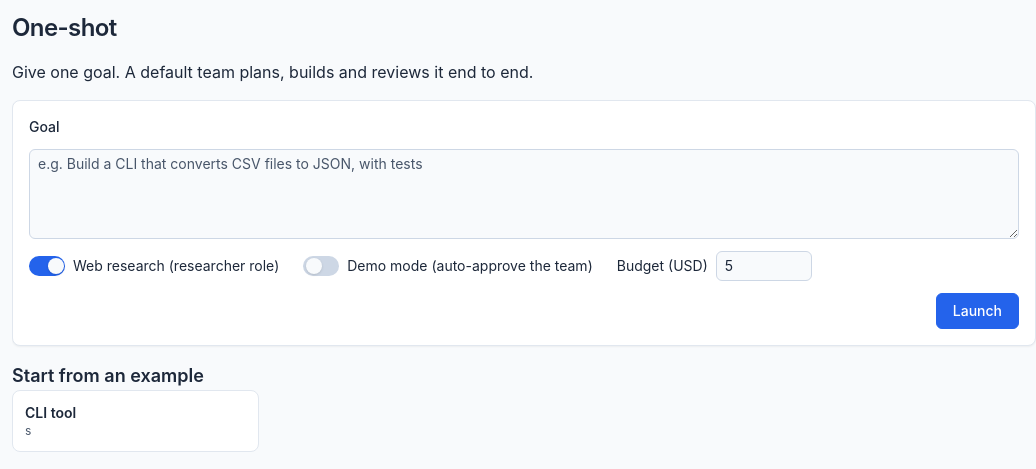
Test: OneShotLauncher › prefills the goal from an example card
What coordinates should you click on to do the following:
click the button with test id "example-cli"
I would click on:
 (136, 421)
Its box is top-left (12, 390), bottom-right (259, 452).
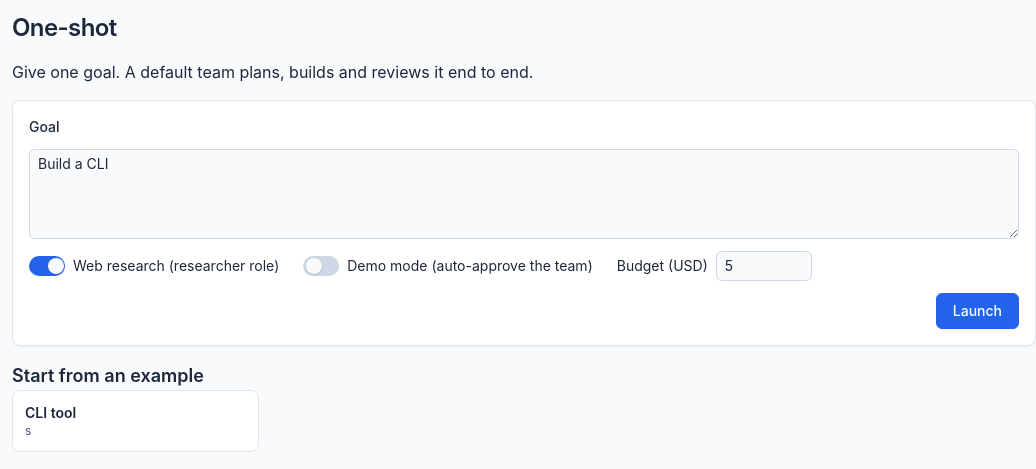
Now the text box labelled "Goal" holds "Build a CLI", box top-left (29, 149), bottom-right (1019, 239)
